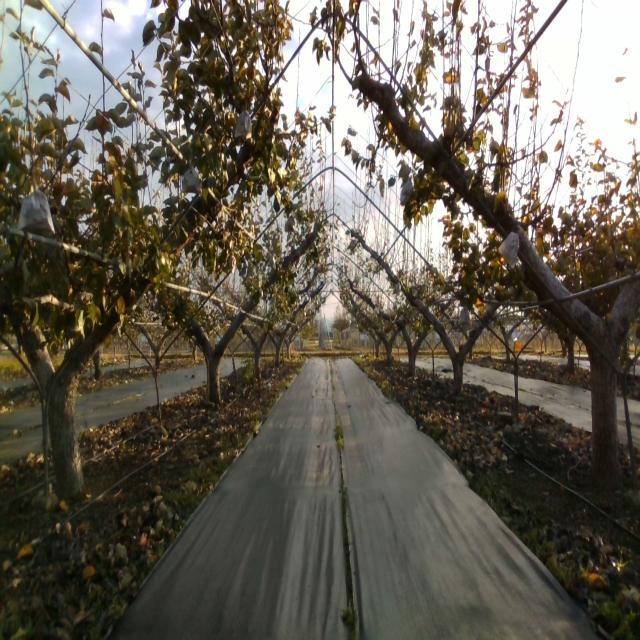pearbags: (17, 180, 55, 236), (498, 231, 520, 269), (182, 159, 203, 198), (234, 110, 252, 140), (457, 304, 472, 332), (401, 176, 414, 206), (284, 215, 297, 232)
